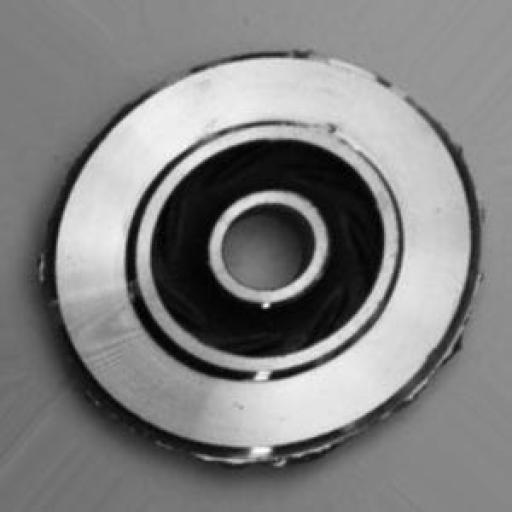defect: (44, 43, 481, 476)
